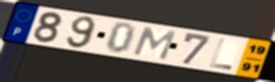0: (105, 22, 138, 55)
7: (181, 31, 213, 66)
8: (31, 11, 65, 44)
9: (65, 15, 99, 50)
L: (208, 37, 234, 71)
M: (130, 26, 179, 62)
